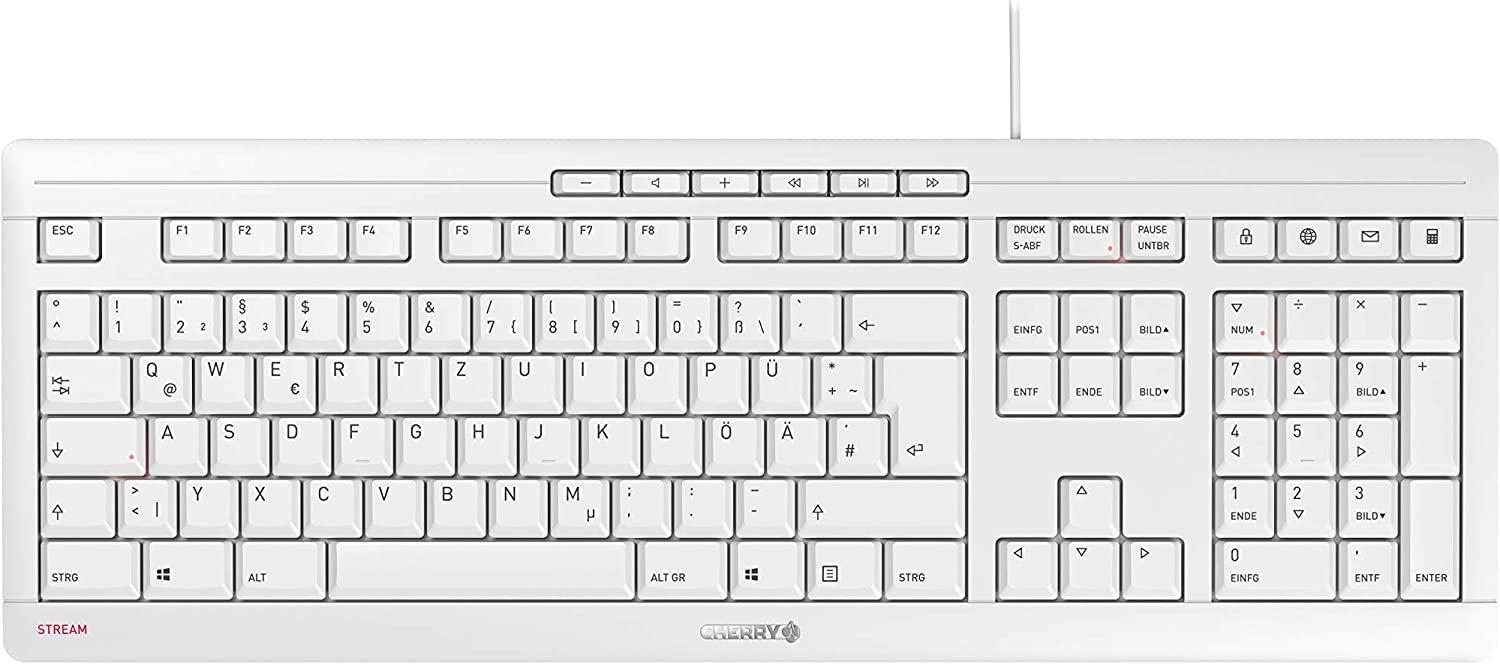0: (658, 289, 716, 350)
1: (101, 289, 158, 351)
2: (164, 289, 220, 350)
3: (223, 289, 283, 349)
4: (287, 289, 344, 350)
5: (346, 289, 405, 349)
6: (408, 288, 469, 350)
7: (473, 289, 530, 348)
8: (533, 289, 592, 350)
9: (596, 289, 654, 350)
a: (149, 414, 203, 474)
accent: (782, 289, 838, 350)
ae: (765, 412, 824, 474)
alt-left: (233, 539, 326, 602)
altgr-right: (638, 538, 727, 600)
b: (424, 474, 484, 535)
c: (301, 475, 360, 534)
caret: (36, 288, 94, 348)
comma: (611, 475, 667, 536)
d: (271, 413, 328, 473)
del: (843, 287, 963, 350)
e: (256, 351, 313, 411)
enter: (874, 348, 963, 476)
f: (334, 413, 390, 473)
g: (394, 413, 451, 472)
h: (457, 413, 514, 473)
hash: (827, 412, 885, 474)
i: (567, 352, 620, 408)
j: (518, 413, 575, 473)
k: (581, 413, 638, 474)
keyboard: (4, 136, 1499, 663)
l: (643, 413, 698, 473)
less: (117, 475, 176, 534)
m: (550, 475, 608, 536)
minus: (732, 475, 792, 534)
n: (488, 475, 546, 535)
o: (625, 351, 683, 409)
oe: (703, 412, 761, 474)
p: (688, 351, 744, 410)
plus: (812, 351, 869, 412)
point: (673, 476, 730, 534)
q: (130, 351, 191, 413)
r: (317, 351, 375, 411)
s: (208, 412, 266, 474)
shift-left: (38, 475, 111, 536)
shift-lock: (40, 412, 141, 473)
shift-right: (798, 474, 962, 536)
space: (332, 535, 630, 600)
ss: (719, 288, 776, 350)
strg-left: (37, 535, 139, 599)
strg-right: (881, 537, 965, 598)
t: (381, 351, 435, 409)
tab: (38, 350, 126, 411)
u: (503, 350, 560, 411)
ue: (749, 351, 808, 412)
v: (366, 476, 421, 534)
w: (194, 351, 251, 411)
x: (241, 476, 297, 534)
y: (179, 476, 237, 536)
z: (442, 352, 497, 410)
